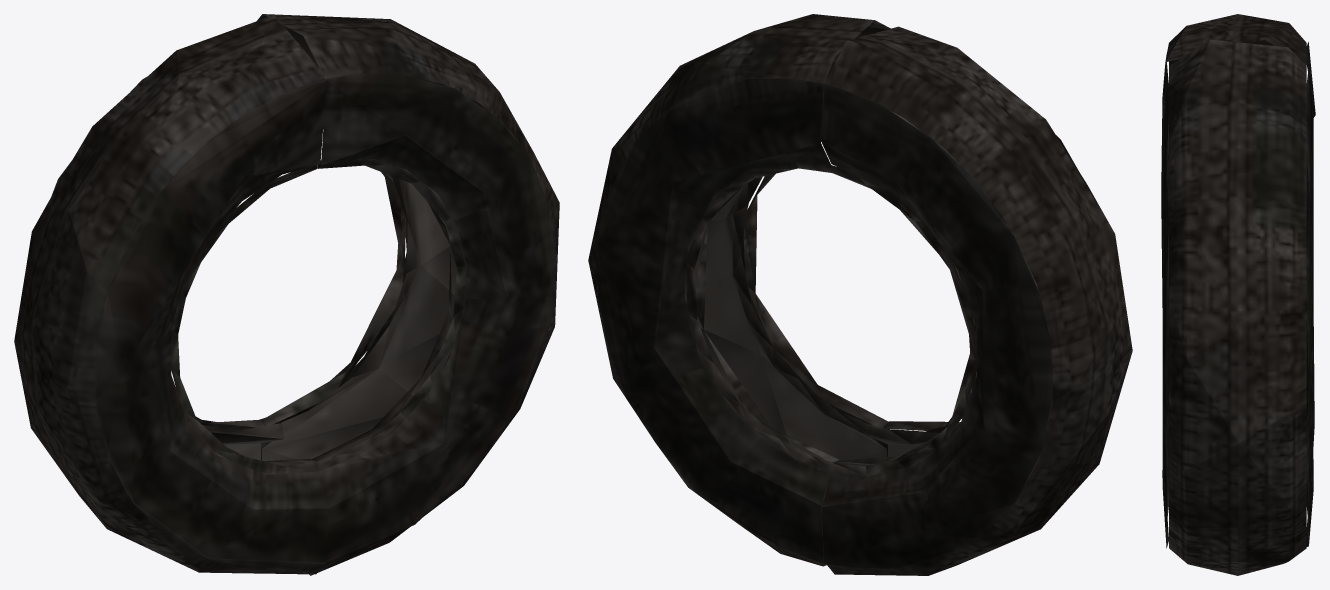
Rendered from old_tyre.glb.
The picture shows the model from 3 angles, left to right: view 1: azimuth 30°, elevation 25°; view 2: azimuth 150°, elevation 25°; view 3: azimuth 270°, elevation 25°; orthographic projection. The views are drawn at different scales.
Parts seen in each view (by area): view 1: old_tyre; view 2: old_tyre; view 3: old_tyre.
Boxes of the visible parts, box(x1,y1,x2,y2) form: old_tyre: box(14, 14, 559, 575); old_tyre: box(588, 14, 1132, 575); old_tyre: box(1161, 14, 1315, 575).
Size of the model in its own units: 0.6041 by 0.6092 by 0.167.
Materials: 1 (1 with a texture image).
